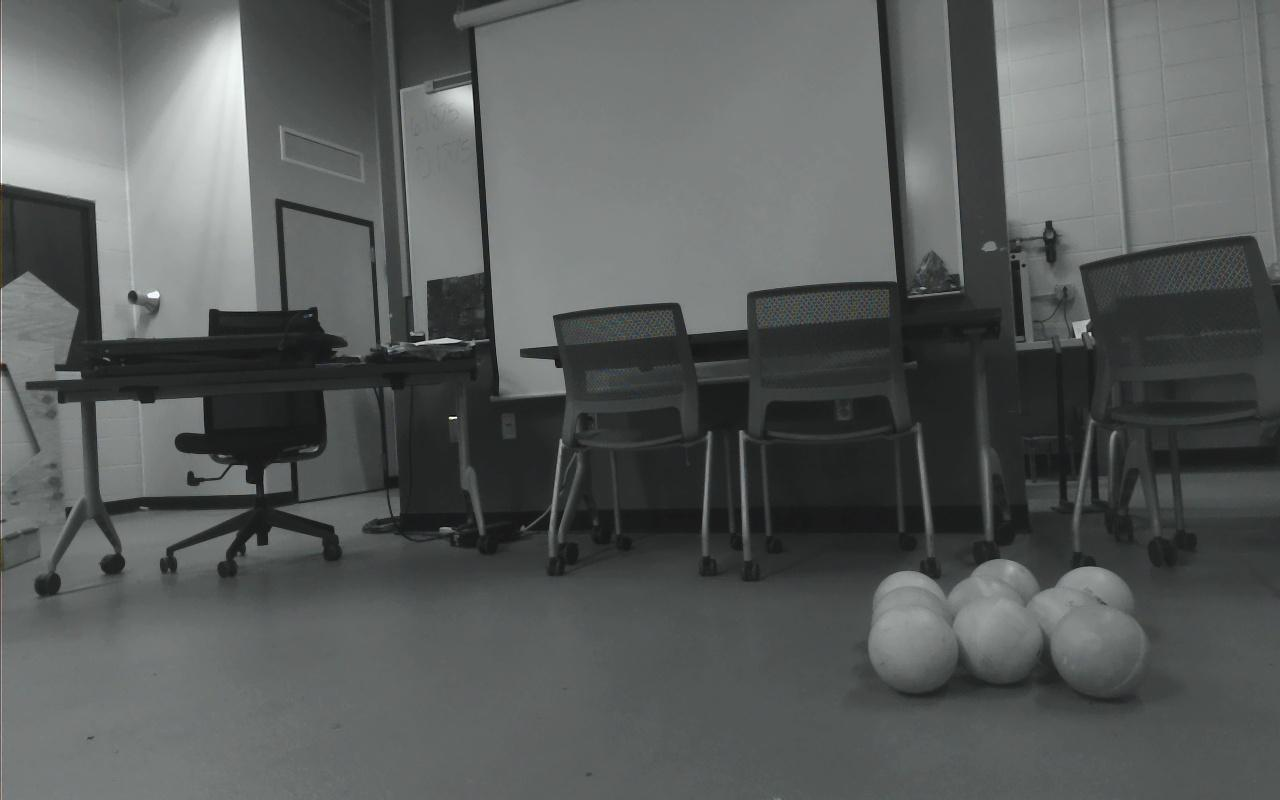Fuel: (1051, 604, 1151, 700), (951, 595, 1043, 685), (868, 604, 959, 694), (1025, 585, 1107, 672), (1055, 566, 1137, 645), (945, 575, 1025, 654), (869, 586, 954, 660), (968, 559, 1042, 635), (873, 570, 950, 636)
